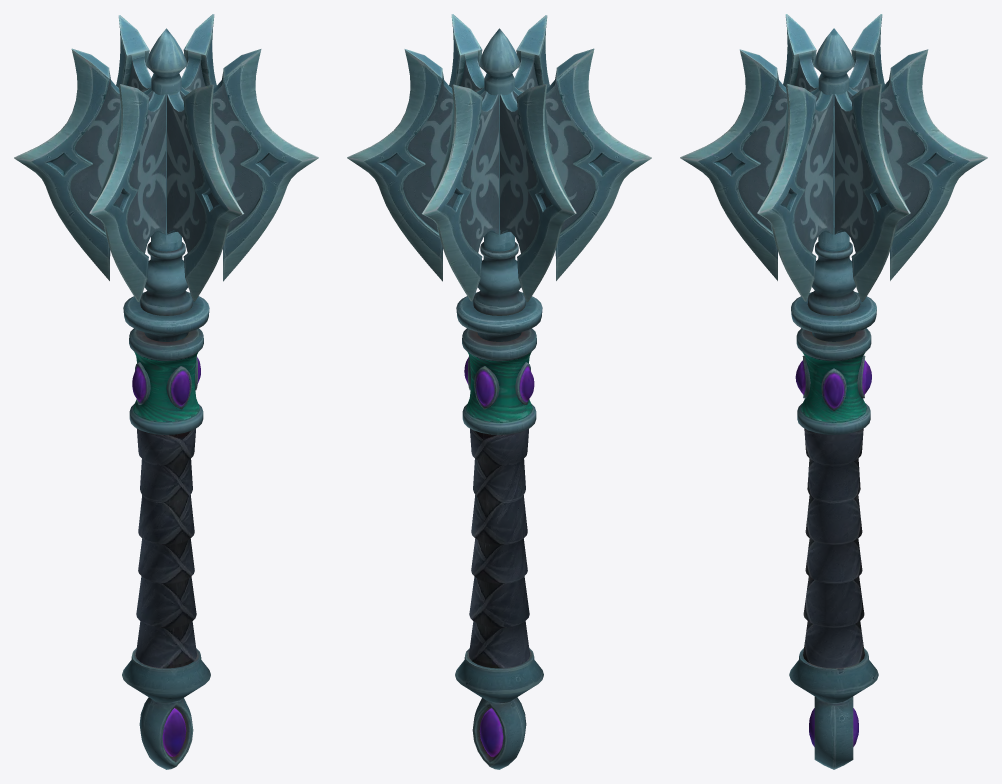
3 views of the same model, side by side, from view 1: azimuth 30°, elevation 25°; view 2: azimuth 150°, elevation 25°; view 3: azimuth 270°, elevation 25° (orthographic).
Parts seen in each view (by area): view 1: SM_Mace_Rune_1H_01_LOD0; view 2: SM_Mace_Rune_1H_01_LOD0; view 3: SM_Mace_Rune_1H_01_LOD0.
Boxes of the visible parts, x1,y1,x2,y2 form: SM_Mace_Rune_1H_01_LOD0: [14, 14, 318, 769]; SM_Mace_Rune_1H_01_LOD0: [347, 14, 651, 769]; SM_Mace_Rune_1H_01_LOD0: [680, 14, 987, 769].
Size of the model in its own units: 0.321 by 0.9901 by 0.3723.
1 material, 1 textured.
